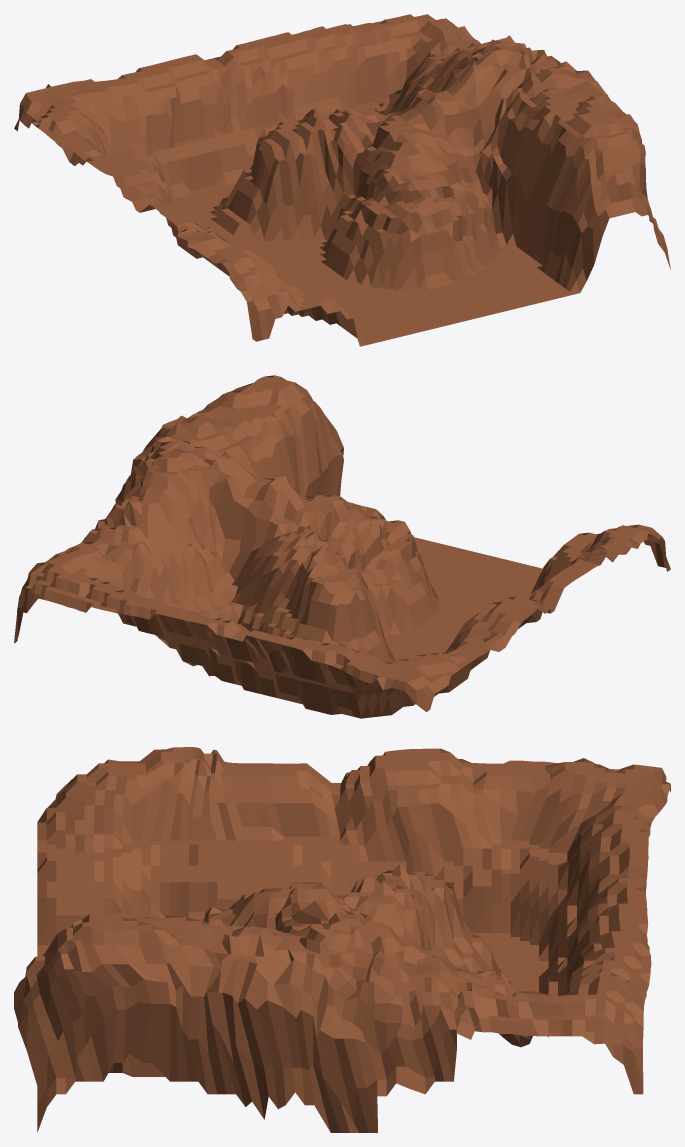
Rendered from base_level.glb.
3 views of the same model, one above another, from view 1: azimuth 30°, elevation 25°; view 2: azimuth 150°, elevation 25°; view 3: azimuth 270°, elevation 25° (orthographic). The views are drawn at different scales.
Visible parts, largest first — view 1: Plane; view 2: Plane; view 3: Plane.
Part boxes in pixels (box(x1,y1,x2,y2)): Plane: box(14, 14, 670, 346); Plane: box(14, 375, 670, 718); Plane: box(14, 747, 670, 1132).
Size of the model in its own units: 218 by 67.57 by 217.
